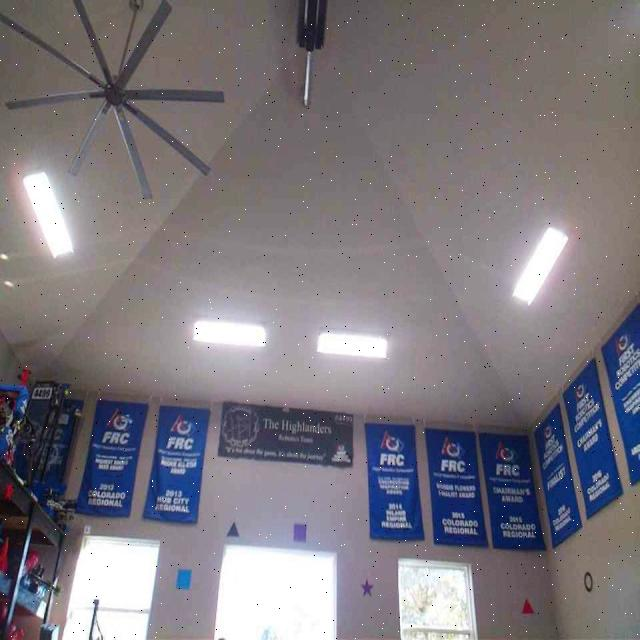ring_black: (582, 570, 592, 592)
square_blue: (175, 568, 191, 588)
square_purple: (292, 521, 306, 539)
star_purple: (360, 578, 373, 596)
triangle_black: (224, 520, 240, 536)
triangle_red: (521, 596, 534, 614)
